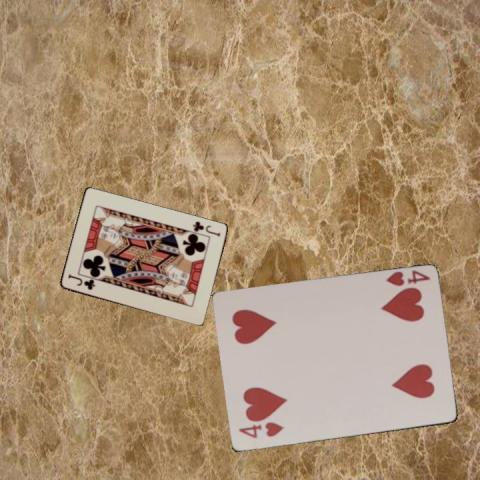4h: (383, 267, 431, 288), (235, 421, 285, 440)
Jc: (190, 218, 222, 238), (65, 272, 96, 291)
